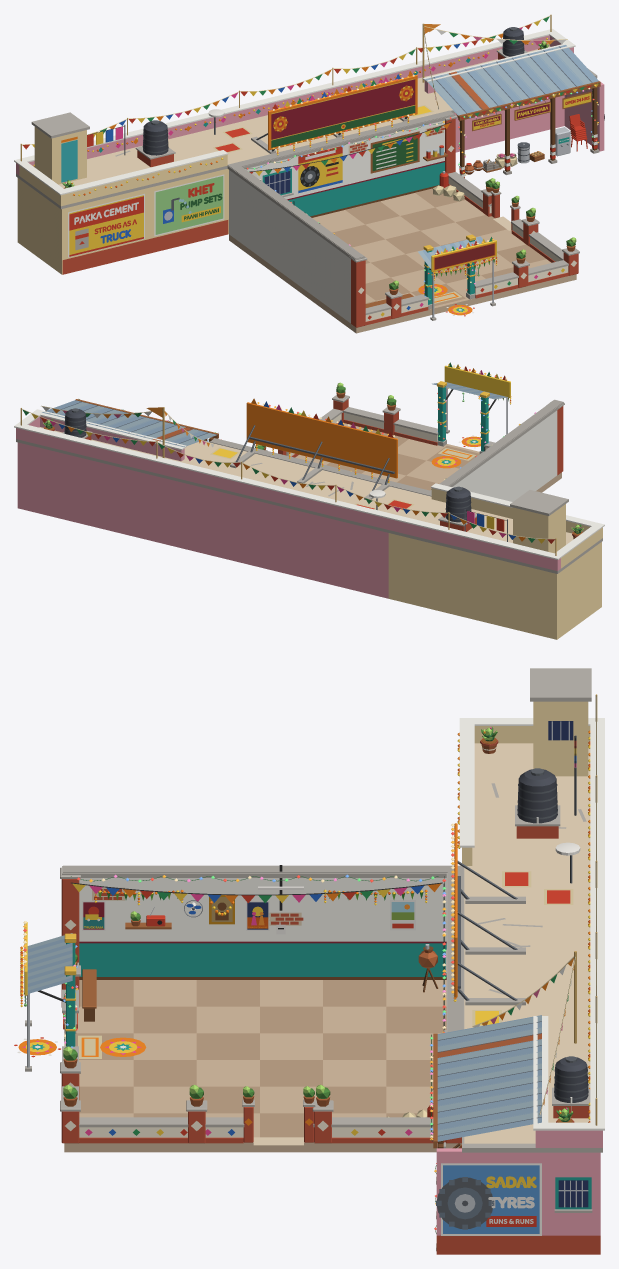
The model's file is dhaba_v3.glb.
The picture shows the model from 3 angles, top to bottom: view 1: azimuth 30°, elevation 25°; view 2: azimuth 150°, elevation 25°; view 3: azimuth 270°, elevation 25°; orthographic projection. The views are drawn at different scales.
Visible parts, largest first — view 1: dhaba_v3; view 2: dhaba_v3; view 3: dhaba_v3.
Part boxes in pixels (bbox=[...]): dhaba_v3: bbox=[14, 14, 604, 333]; dhaba_v3: bbox=[14, 362, 604, 639]; dhaba_v3: bbox=[14, 668, 604, 1254].
Size of the model in its own units: 23.1 by 5.47 by 14.04.
Materials: 2 (1 with a texture image).
